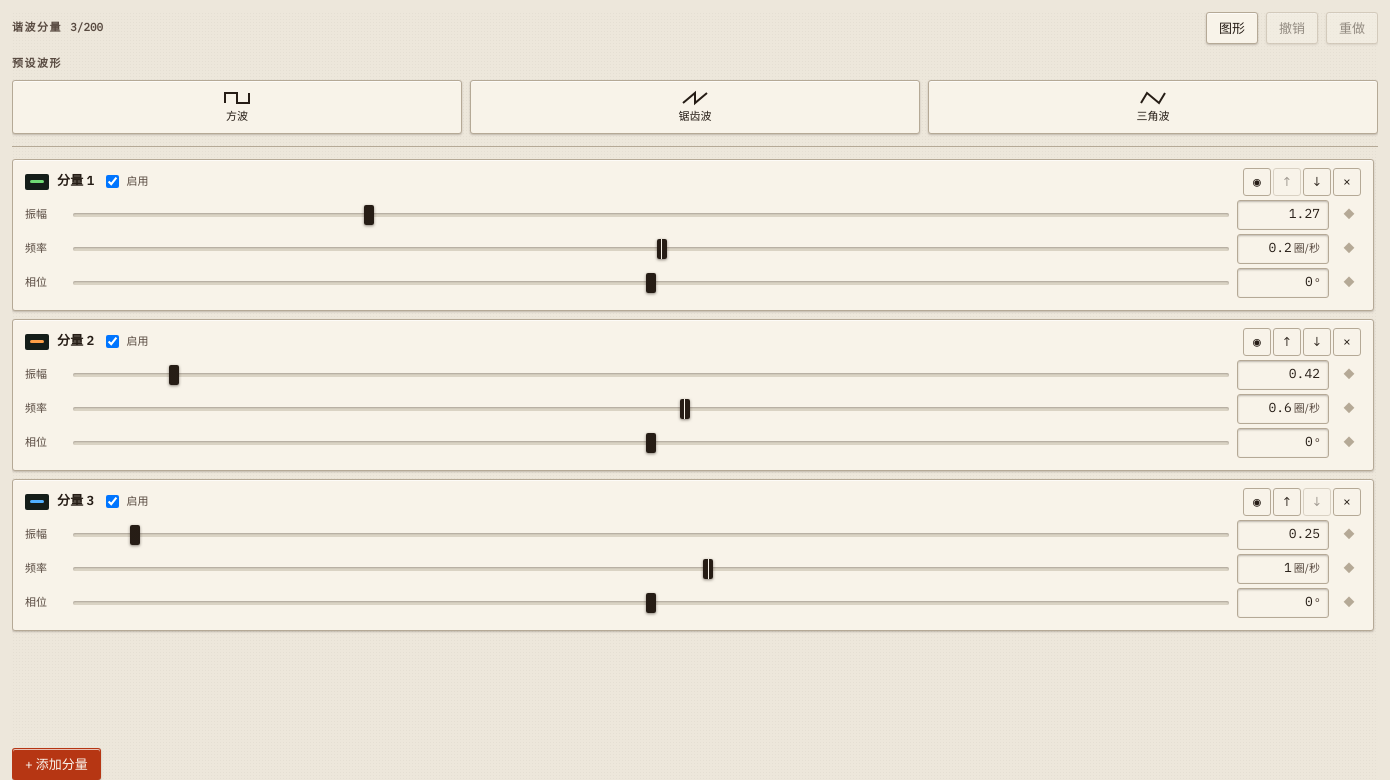
Test case: ComponentsPanel › disabling, reordering and deleting act on the right component
Click the checkbox labelled "启用" next to "分量 1": (113, 182) [106, 175, 119, 188]
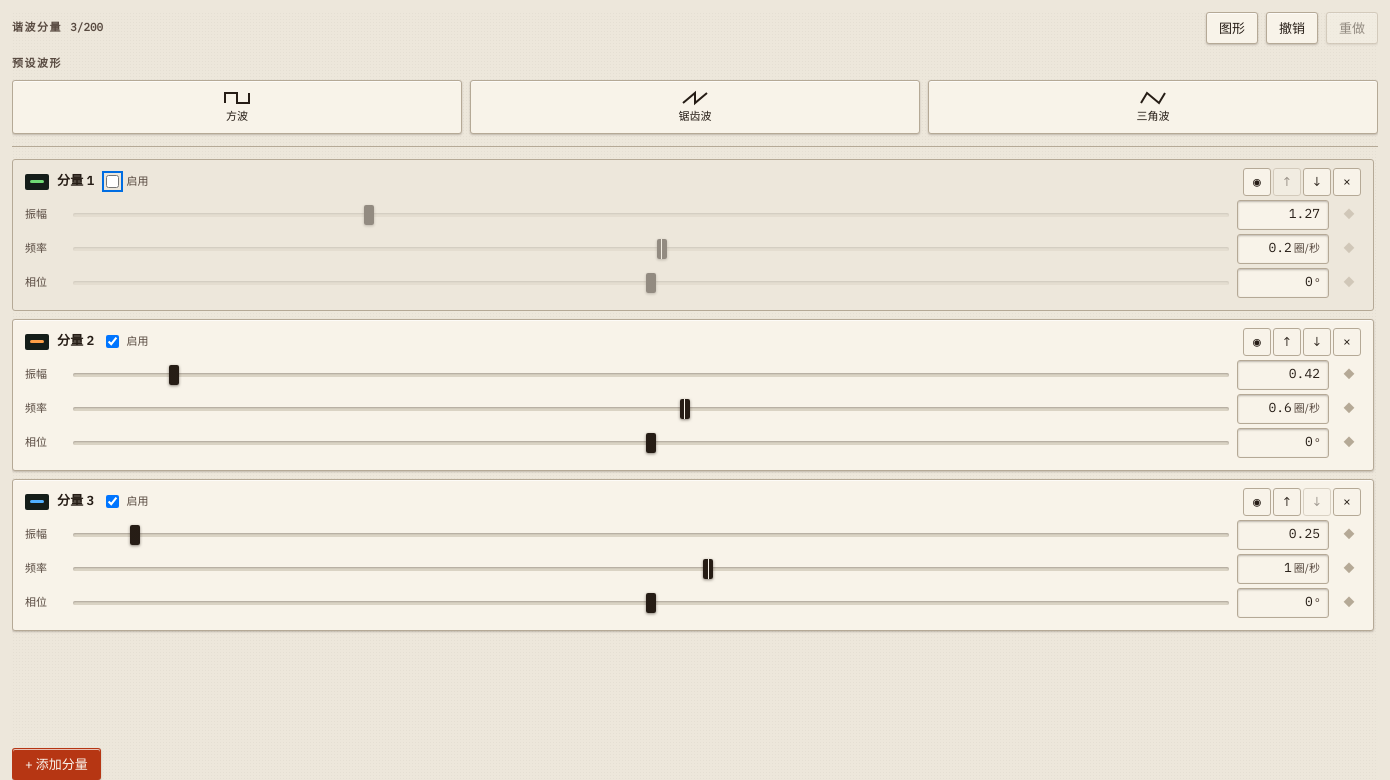
Click the button named "下移分量 1": (1317, 182) [1303, 168, 1331, 196]
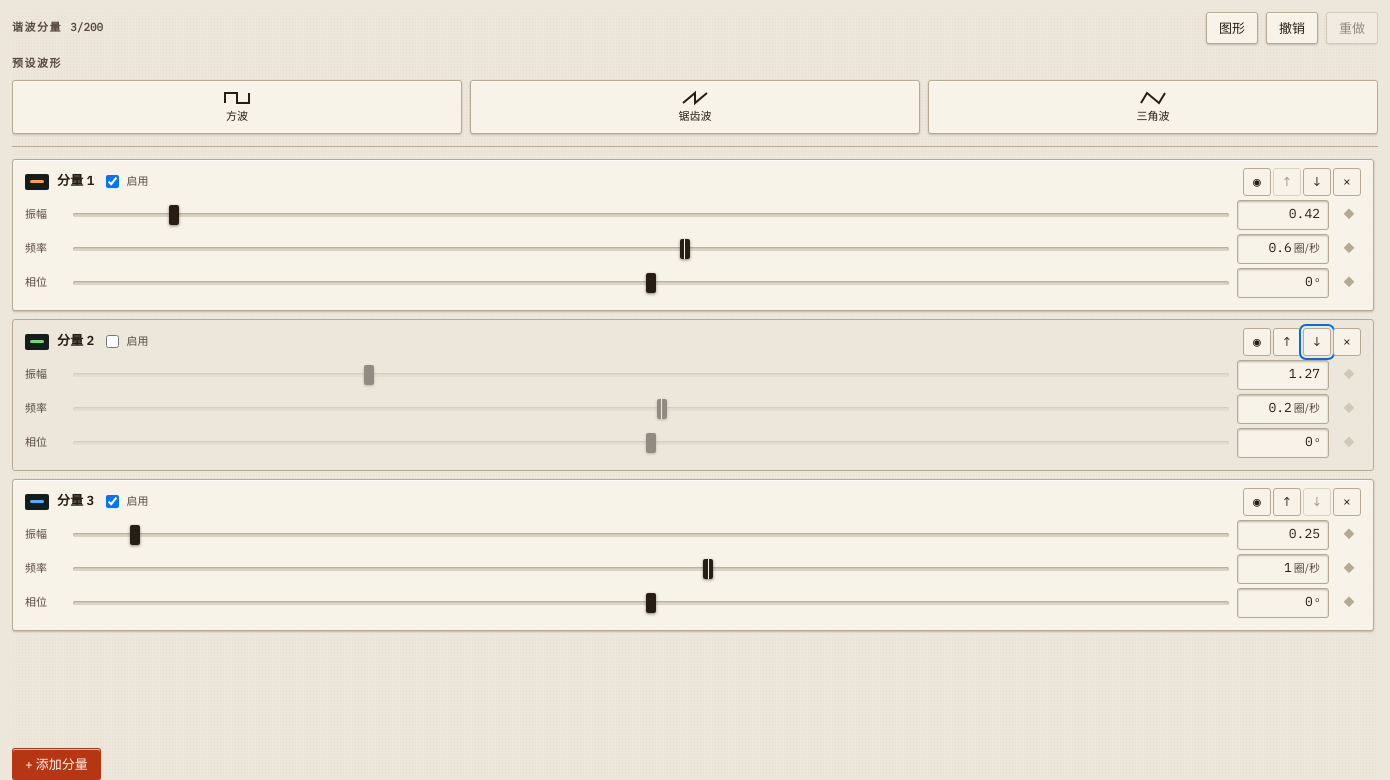
Expected: the button named "上移分量 1" is disabled, [1273, 168, 1301, 196]
Click the button named "删除分量 1": (1347, 182) [1333, 168, 1361, 196]
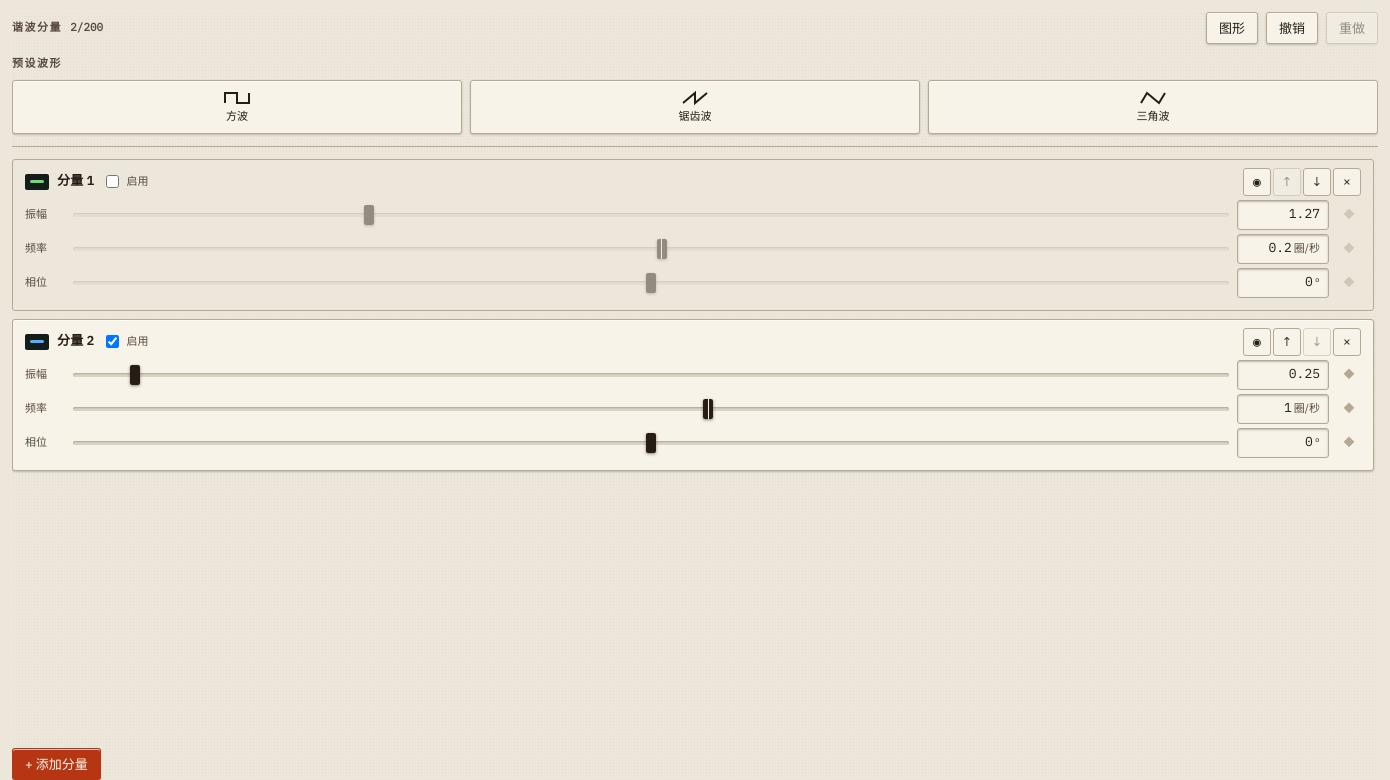
Now the number of list items is 2, box [12, 159, 1374, 311]; [12, 319, 1374, 471]
